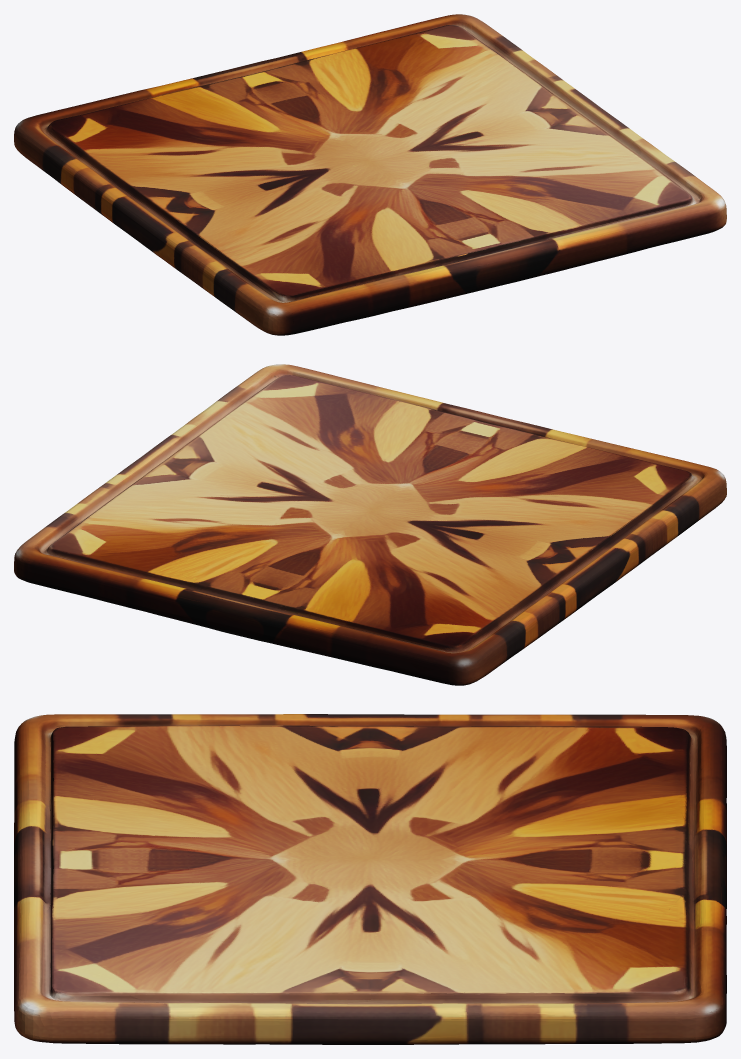
File: wooden-cutting-board-art-deco.jpeg.glb
3 views of the same model, one above another, from view 1: azimuth 30°, elevation 25°; view 2: azimuth 150°, elevation 25°; view 3: azimuth 270°, elevation 25° (orthographic). The views are drawn at different scales.
Visible parts, largest first — view 1: world; view 2: world; view 3: world.
Boxes of the visible parts, left/top/right/bottom form: world: left=14, top=14, right=726, bottom=335; world: left=14, top=364, right=726, bottom=685; world: left=14, top=714, right=726, bottom=1044.
Size of the model in its own units: 1 by 0.0637 by 1.
1 material, 1 textured.
